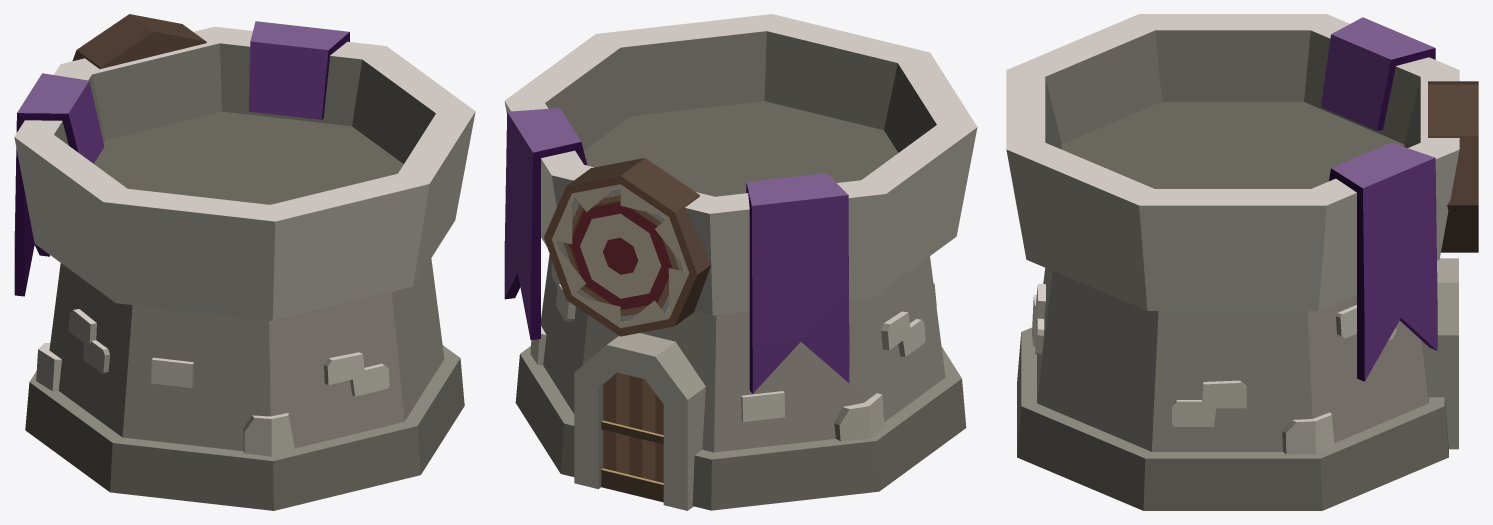
The model's file is ArcherTower_Lv1.obj.
3 views of the same model, side by side, from view 1: azimuth 30°, elevation 25°; view 2: azimuth 150°, elevation 25°; view 3: azimuth 270°, elevation 25° (orthographic). The views are drawn at different scales.
Parts seen in each view (by area): view 1: ArcherTower_Lv1; view 2: ArcherTower_Lv1; view 3: ArcherTower_Lv1.
Boxes of the visible parts, bbox=[...] form: ArcherTower_Lv1: bbox=[14, 14, 475, 510]; ArcherTower_Lv1: bbox=[504, 14, 977, 510]; ArcherTower_Lv1: bbox=[1006, 14, 1478, 510].
Size of the model in its own units: 6.48 by 5.32 by 6.76.
1 material, 1 textured.
